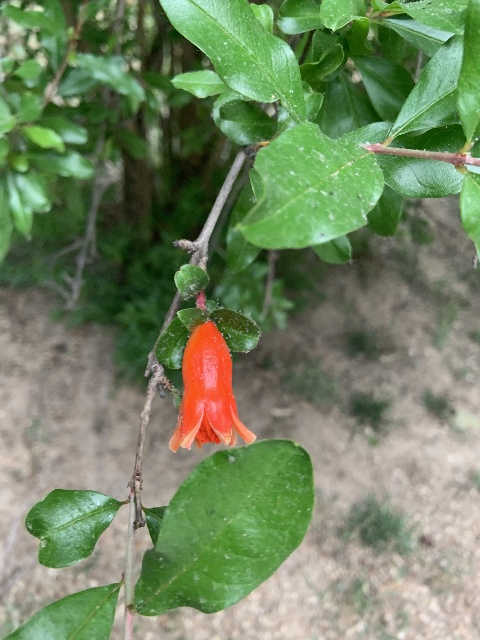flower: (167, 320, 256, 452)
